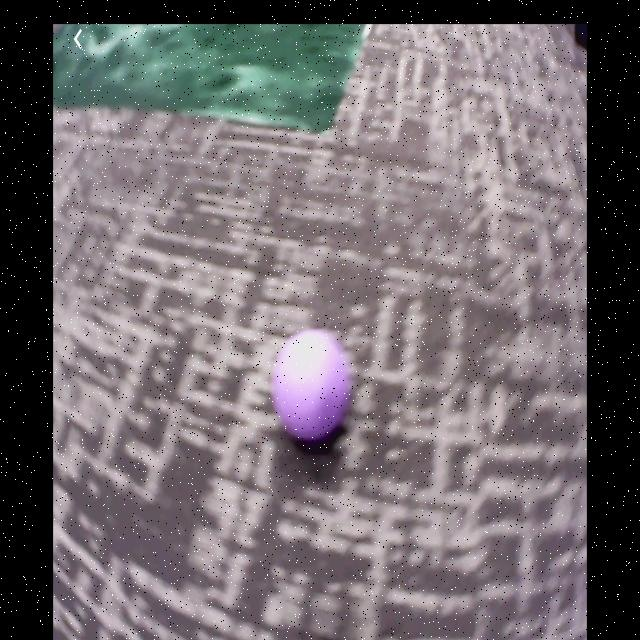ball: (276, 330, 351, 438)
